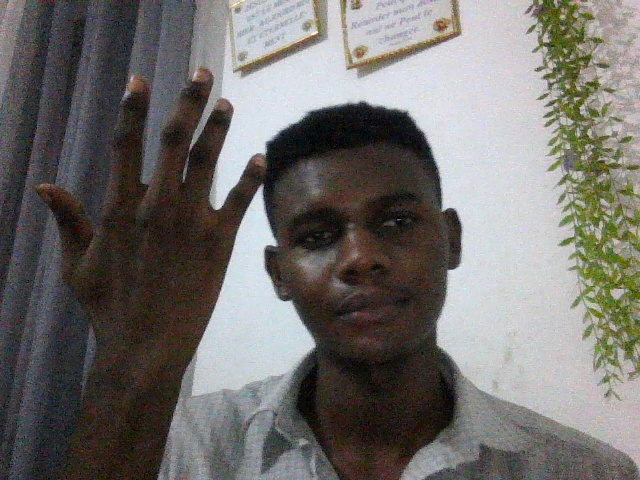hand: (28, 66, 276, 391)
